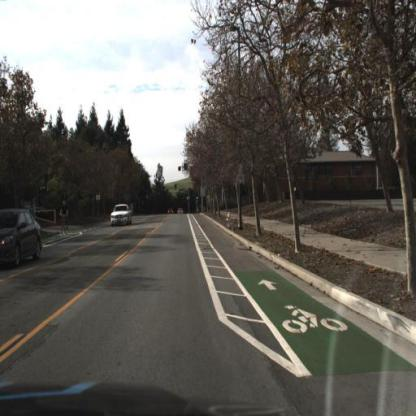biker: (26, 200, 40, 240), (59, 202, 70, 237)
car: (1, 209, 45, 271), (110, 203, 133, 227)
trafficLight: (187, 193, 191, 201)
trafficLight-Green: (196, 193, 200, 202)
trafficLight-GreenLeft: (175, 182, 180, 192)
